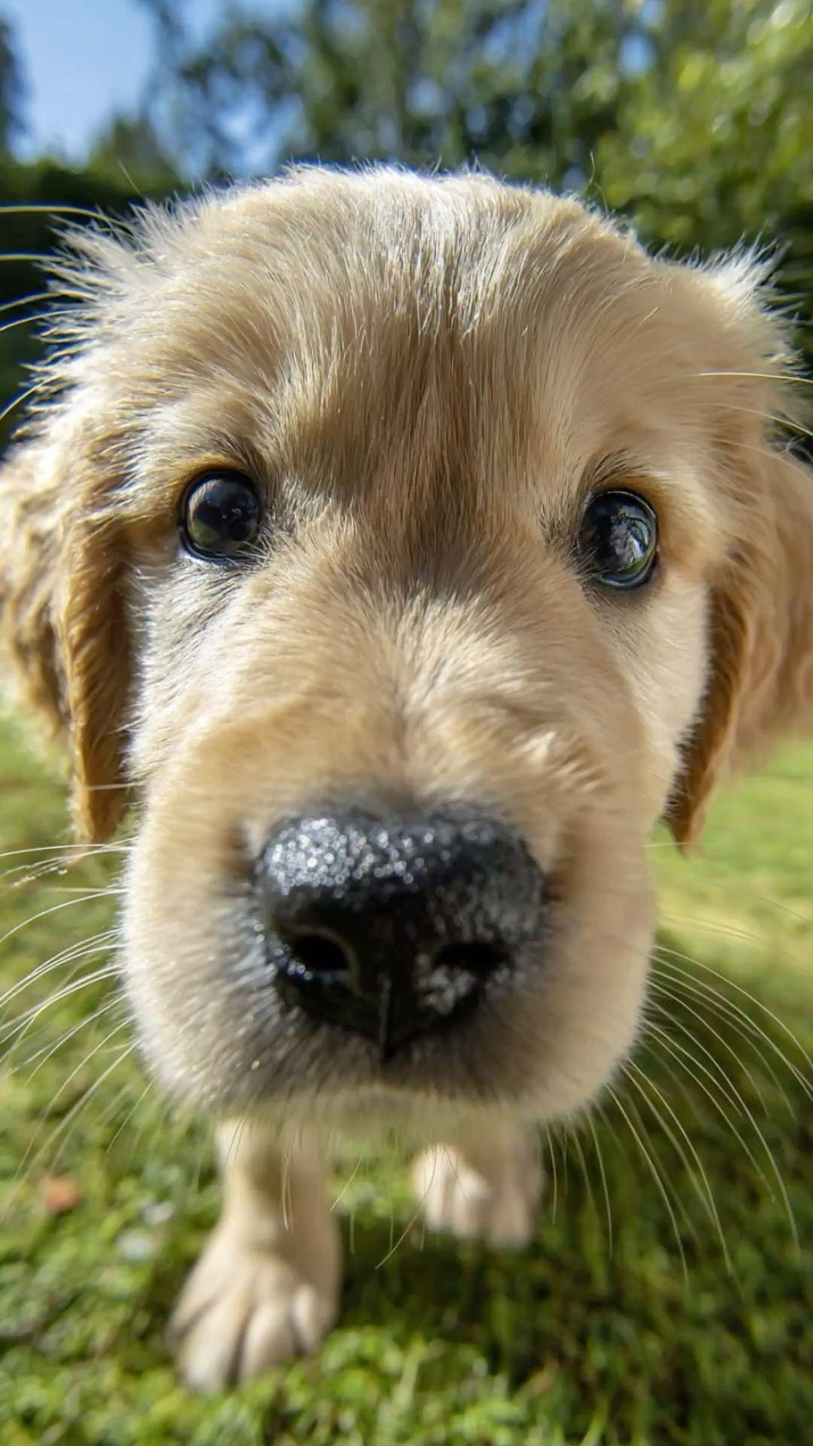puppy-dog: (0, 157, 813, 1399)
